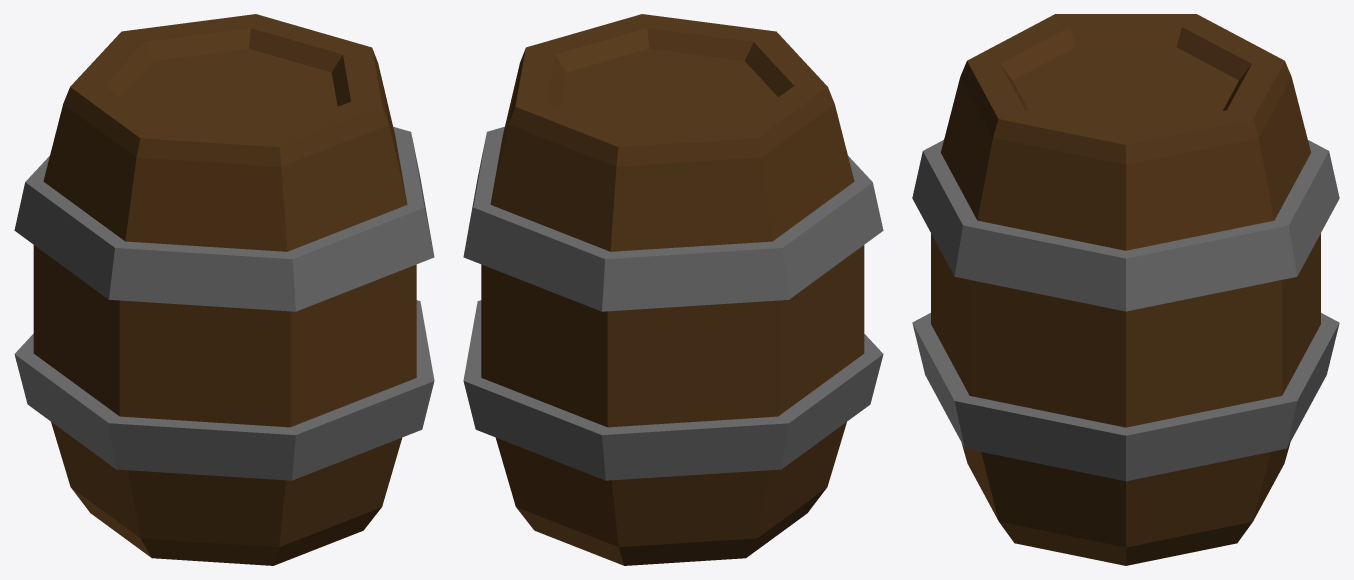
The model's file is F_Barrel.fbx.
3 views of the same model, side by side, from view 1: azimuth 30°, elevation 25°; view 2: azimuth 150°, elevation 25°; view 3: azimuth 270°, elevation 25° (orthographic).
Visible parts, largest first — view 1: F_Barrel; view 2: F_Barrel; view 3: F_Barrel.
Part boxes in pixels (left/top/right/bottom): F_Barrel: left=14, top=14, right=434, bottom=565; F_Barrel: left=463, top=14, right=883, bottom=565; F_Barrel: left=912, top=14, right=1339, bottom=565.
Size of the model in its own units: 122 by 139 by 125.
